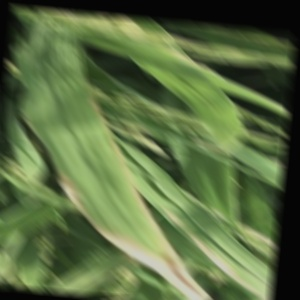Leaf_Blast: (64, 100, 128, 239)
